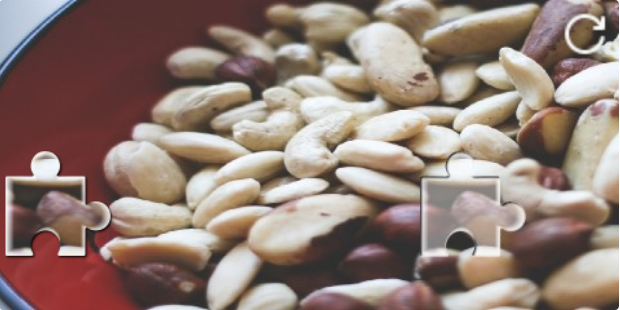target: (420, 152, 525, 258)
